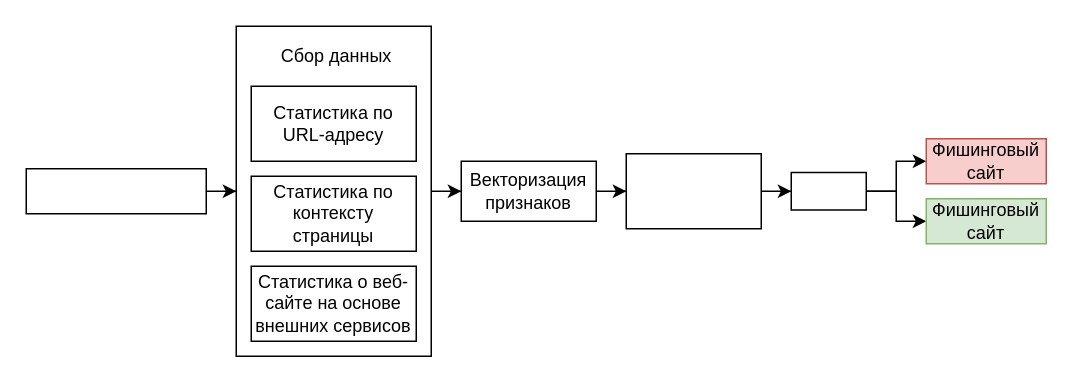
Some shapes in this 1073 by 383 pixel diagram are drawn without their labels. The centre of each missing label's shape, as x and y in pixels:
Алгоритмы машинного обучения: the point at 693,190
ввод URL-адреса: the point at 115,190
Вывод: the point at 828,190
